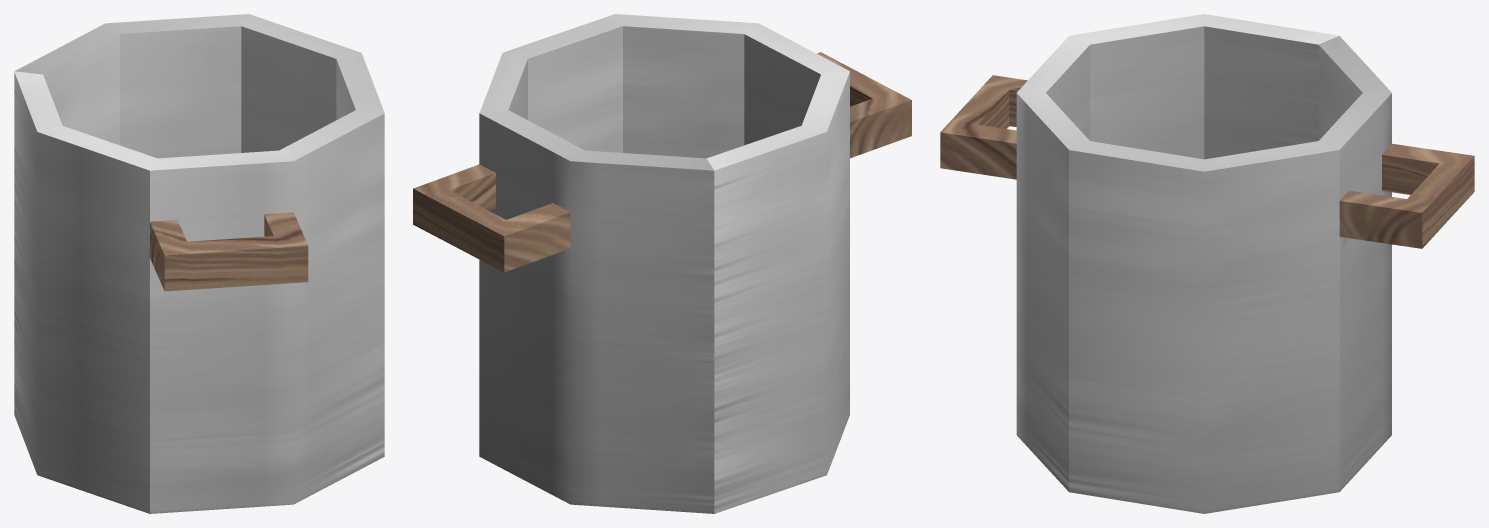
File: Panela fbx.fbx
3 views of the same model, side by side, from view 1: azimuth 30°, elevation 25°; view 2: azimuth 150°, elevation 25°; view 3: azimuth 270°, elevation 25° (orthographic).
Parts seen in each view (by area): view 1: Box002; view 2: Box002; view 3: Box002.
Boxes of the visible parts, box(x1,y1,x2,y2) form: Box002: box(14, 14, 384, 513); Box002: box(413, 14, 911, 513); Box002: box(940, 14, 1474, 513).
Size of the model in its own units: 74.54 by 75.41 by 107.
1 material, 1 textured.
